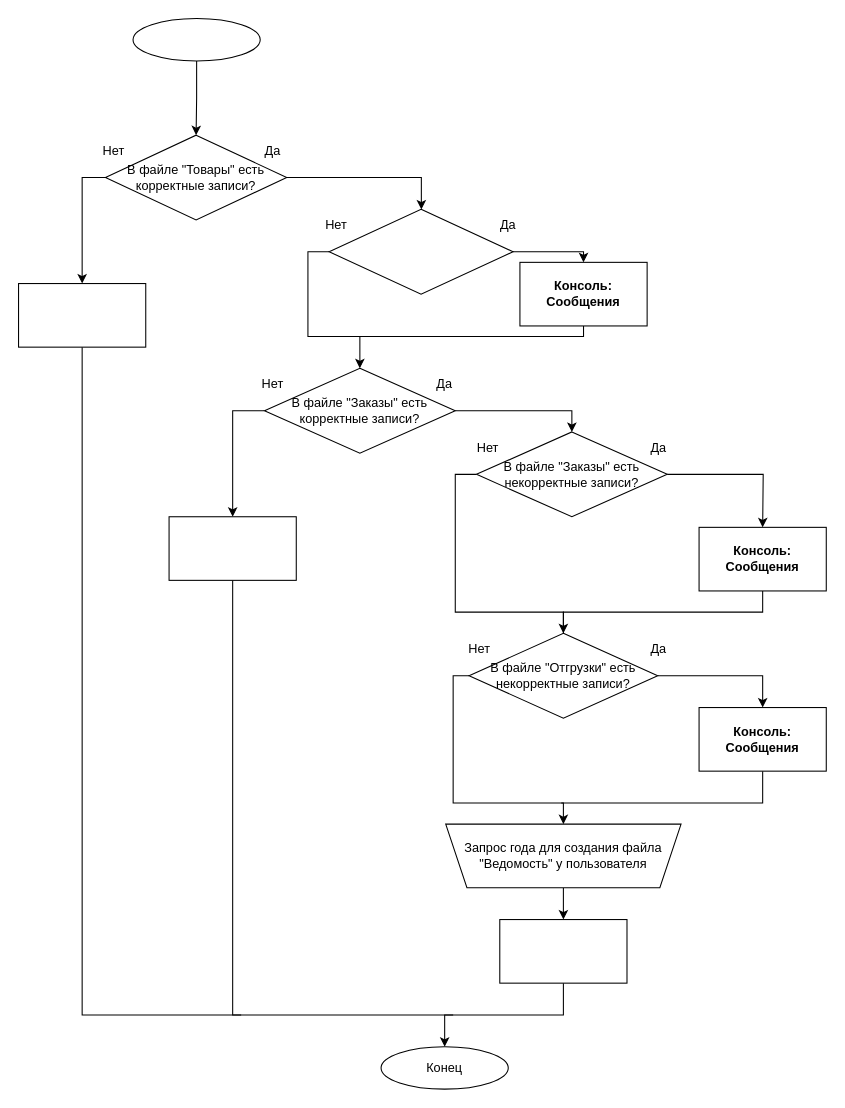
Some shapes in this 845 by 1108 pixel diagram are drawn without their labels. The shapes that lost their labels are listed below. From the top down, each one's box as (x1, y1, x2, y2) in pixels, then its label:
(132, 17, 260, 61): Начало
(328, 208, 513, 294): В файле "Товары" есть некорректные записи?
(17, 282, 146, 347): Консоль: Сообщение 5
(168, 516, 296, 580): Консоль: Сообщение 6
(499, 918, 627, 983): Консоль: Сообщение 1
